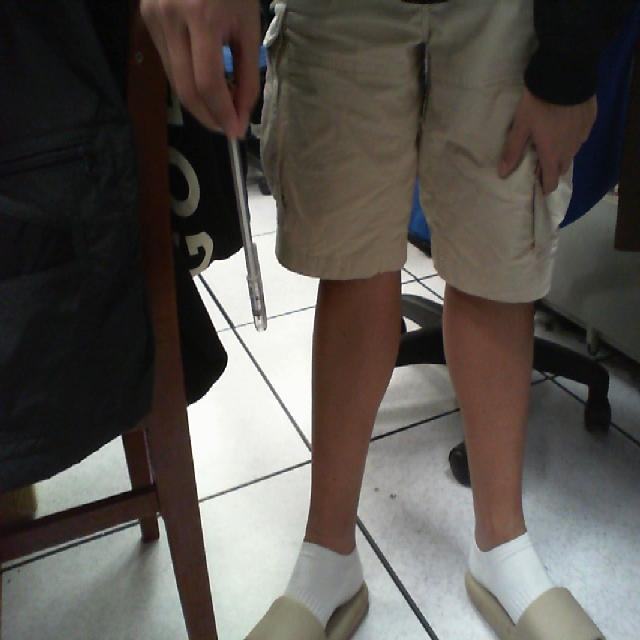Pen: (220, 84, 289, 356)
